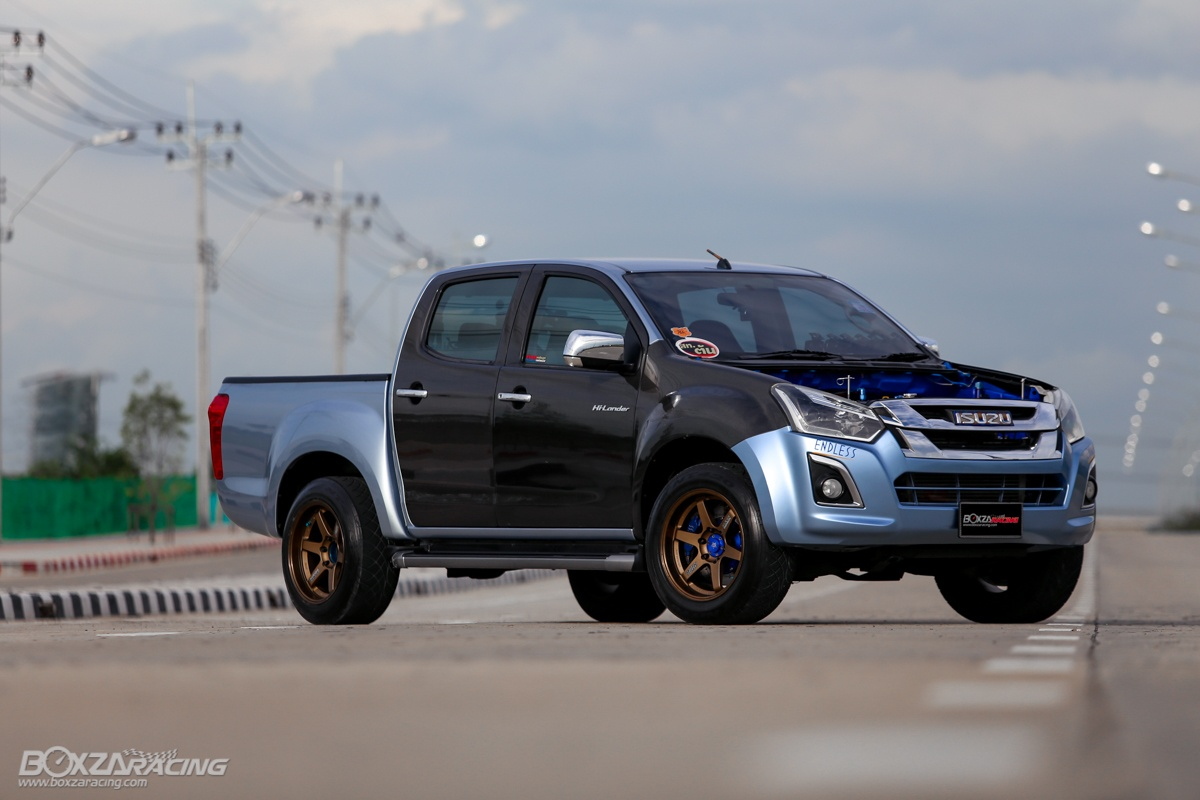pickup: (202, 253, 1103, 636)
